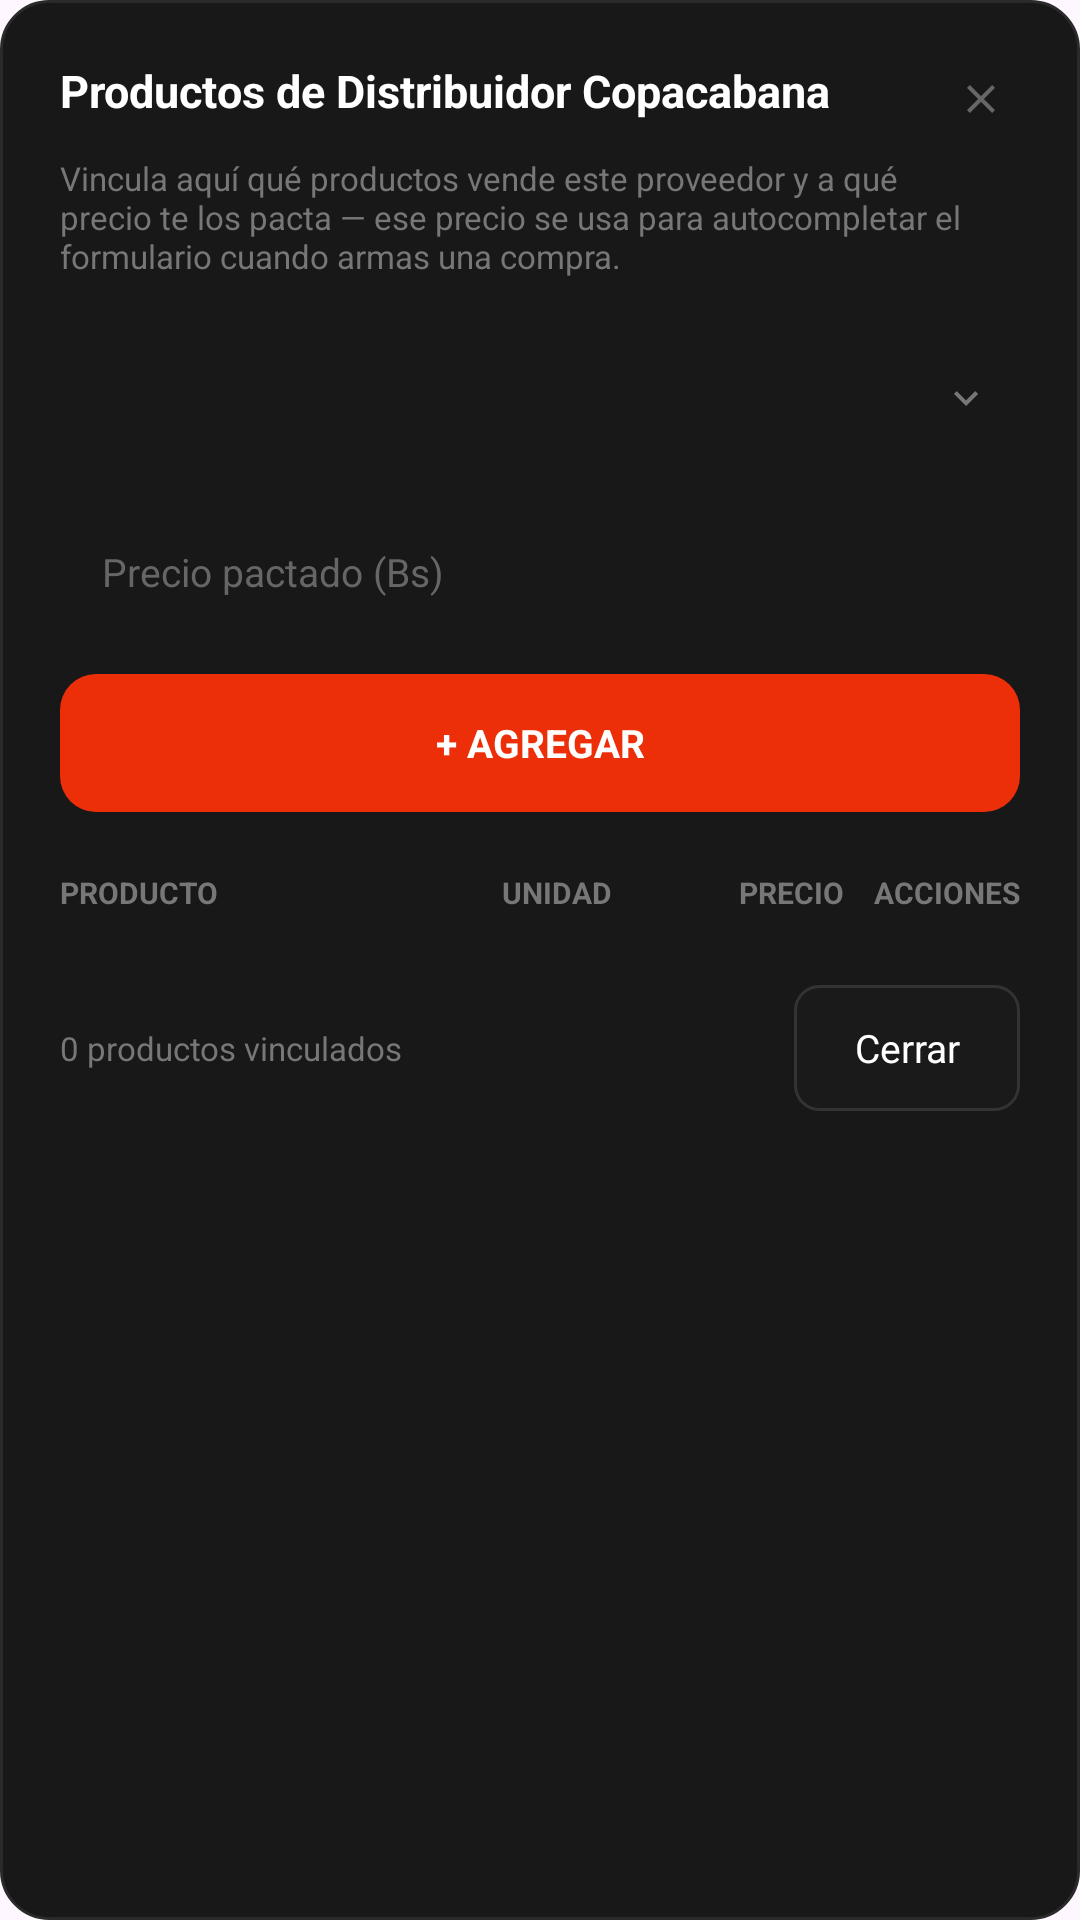

Where icons sit on this 1080w x 1920h app screen, as (x1, y1, x2, y2):
Cerrar: (967, 85, 995, 113)
chevron down: (954, 391, 978, 406)
